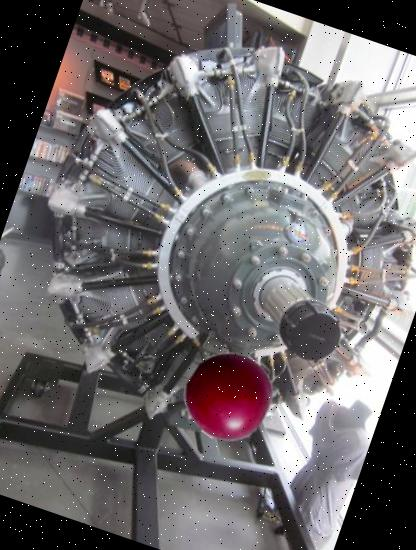Cherry: (172, 339, 285, 452)
